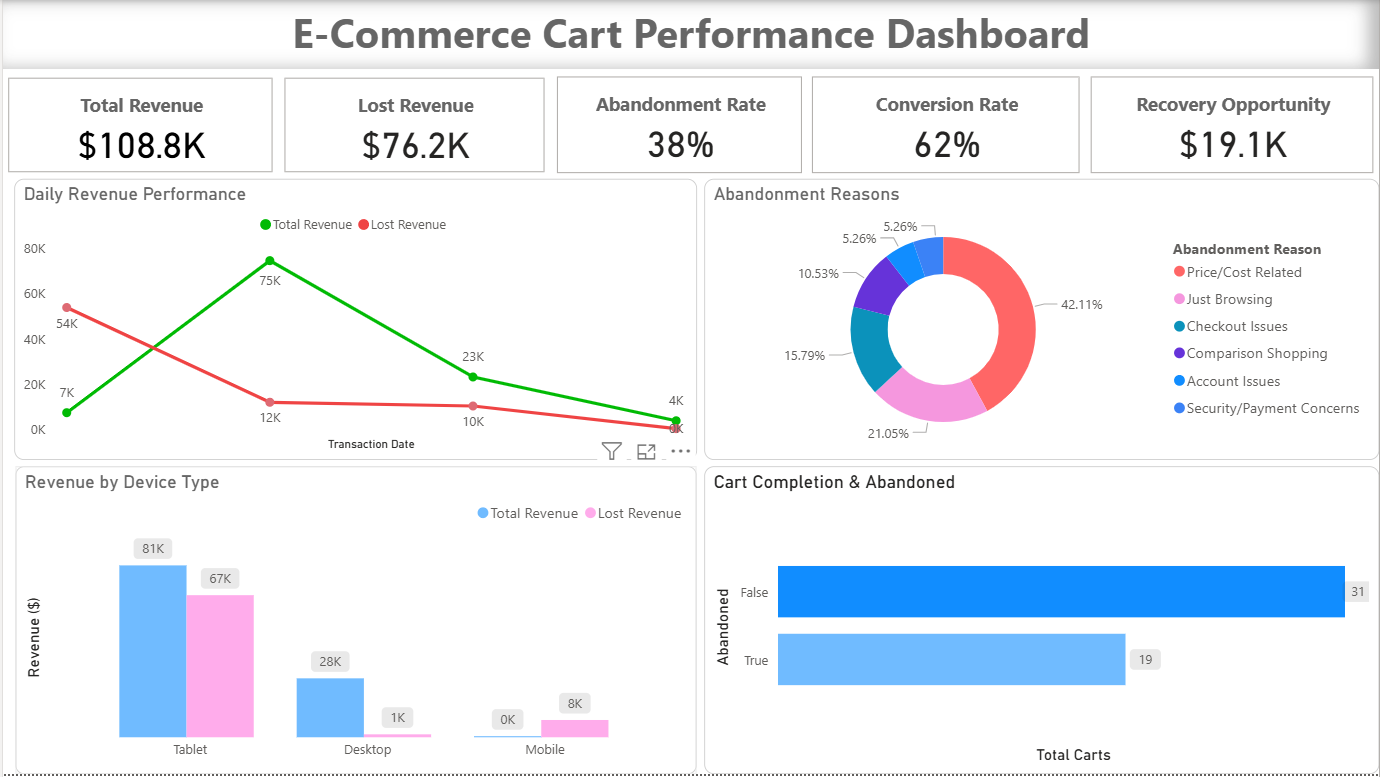

The page's visual inventory and layout, read from the dashboard file:
{"tool":"powerbi","page":{"name":"📊 Executive Overview","canvas":[1280,720],"ordinal":0},"visuals":[{"type":"cardVisual","fields":{"Data":["CartData_Cleaned.Total Revenue"]},"box":[0,67.4,257,98.8],"z":0},{"type":"cardVisual","fields":{"Data":["CartData_Cleaned.Lost Revenue"]},"box":[257,67.4,252.3,98.8],"z":1000},{"type":"cardVisual","fields":{"Data":["CartData_Cleaned.Abandonment Rate"]},"box":[510.5,66.3,238.4,100],"z":2000},{"type":"cardVisual","fields":{"Data":["CartData_Cleaned.Conversion Rate"]},"box":[747.7,66.3,259.3,100],"z":3000},{"type":"cardVisual","fields":{"Data":["CartData_Cleaned.Recovery Opportunity"]},"box":[1007,66.3,273.3,100],"z":4000},{"type":"lineChart","title":"Daily Revenue Performance","fields":{"Category":["CartData_Cleaned.transaction_date"],"Y":["CartData_Cleaned.Total Revenue","CartData_Cleaned.Lost Revenue"]},"box":[10.5,166.3,634.9,261.6],"z":5000},{"type":"donutChart","title":"Abandonment Reasons","fields":{"Y":["CartData_Cleaned.Abandoned Carts"],"Category":["CartData_Cleaned.abandonment_category"]},"box":[652.3,166.3,627.9,261.6],"z":6000},{"type":"clusteredColumnChart","title":"Revenue by Device Type","fields":{"Category":["CartData_Cleaned.device_type"],"Y":["CartData_Cleaned.Total Revenue","CartData_Cleaned.Lost Revenue"]},"box":[11.6,433.7,633.7,286],"z":7000},{"type":"barChart","title":"Cart Completion & Abandoned","fields":{"Y":["CartData_Cleaned.Total Carts"],"Category":["CartData_Cleaned.abandoned"]},"box":[652.3,433.7,627.9,286],"z":8000},{"type":"textbox","box":[0,0,1280.2,64],"z":9000}]}

Visuals, with their boxes in screenshot pixels (x1, y1, x2, y2), scaled from the page's 1280x720 canvas onto the 1380x777 screenshot:
cardVisual - CartData_Cleaned.Total Revenue: (left=0, top=73, right=277, bottom=179)
cardVisual - CartData_Cleaned.Lost Revenue: (left=277, top=73, right=549, bottom=179)
cardVisual - CartData_Cleaned.Abandonment Rate: (left=550, top=72, right=807, bottom=179)
cardVisual - CartData_Cleaned.Conversion Rate: (left=806, top=72, right=1086, bottom=179)
cardVisual - CartData_Cleaned.Recovery Opportunity: (left=1086, top=72, right=1379, bottom=179)
"Daily Revenue Performance" lineChart: (left=11, top=179, right=696, bottom=462)
"Abandonment Reasons" donutChart: (left=703, top=179, right=1379, bottom=462)
"Revenue by Device Type" clusteredColumnChart: (left=13, top=468, right=696, bottom=776)
"Cart Completion & Abandoned" barChart: (left=703, top=468, right=1379, bottom=776)
textbox: (left=0, top=0, right=1379, bottom=69)
